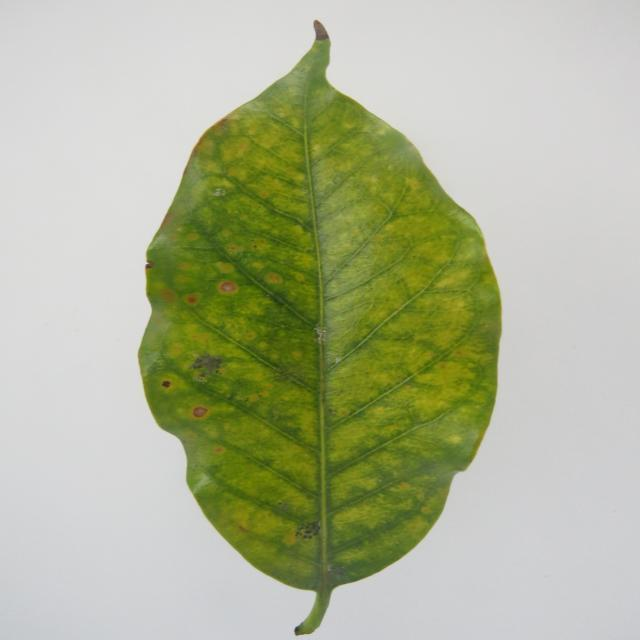DeficienciaNutricional-Magnesio: (140, 22, 500, 634)
